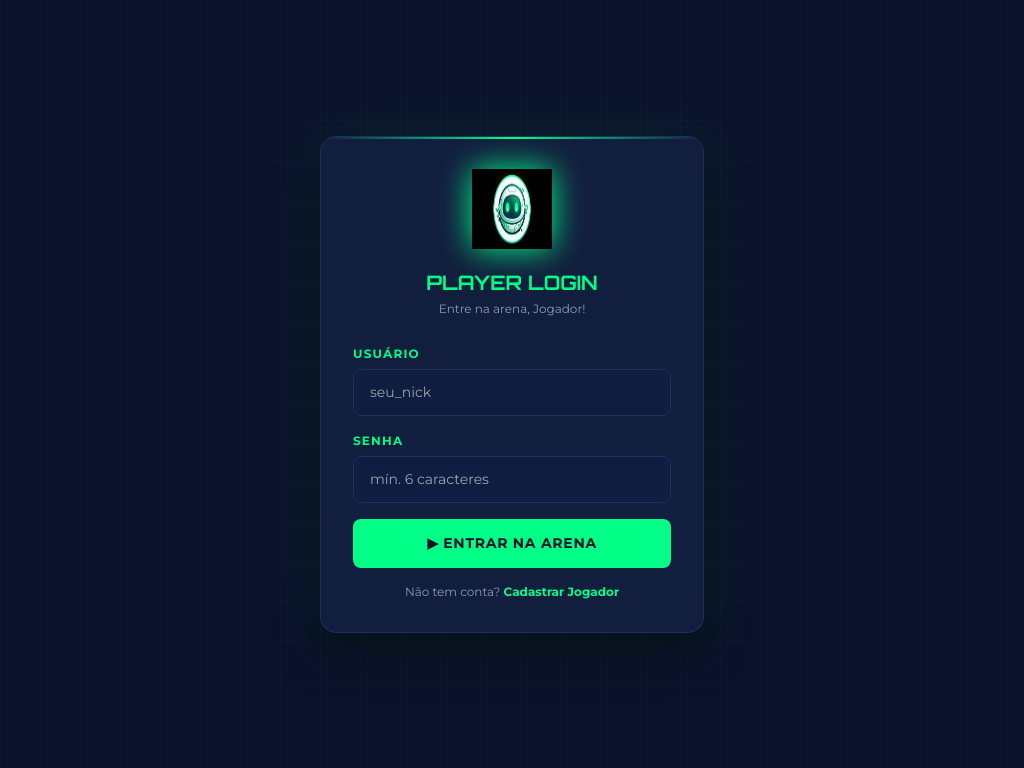
it: LoginForm › shows validation error for short password
Step 1. Type "jogador" into the field labelled "USUÁRIO" → [512, 392], box [353,368,671,416]
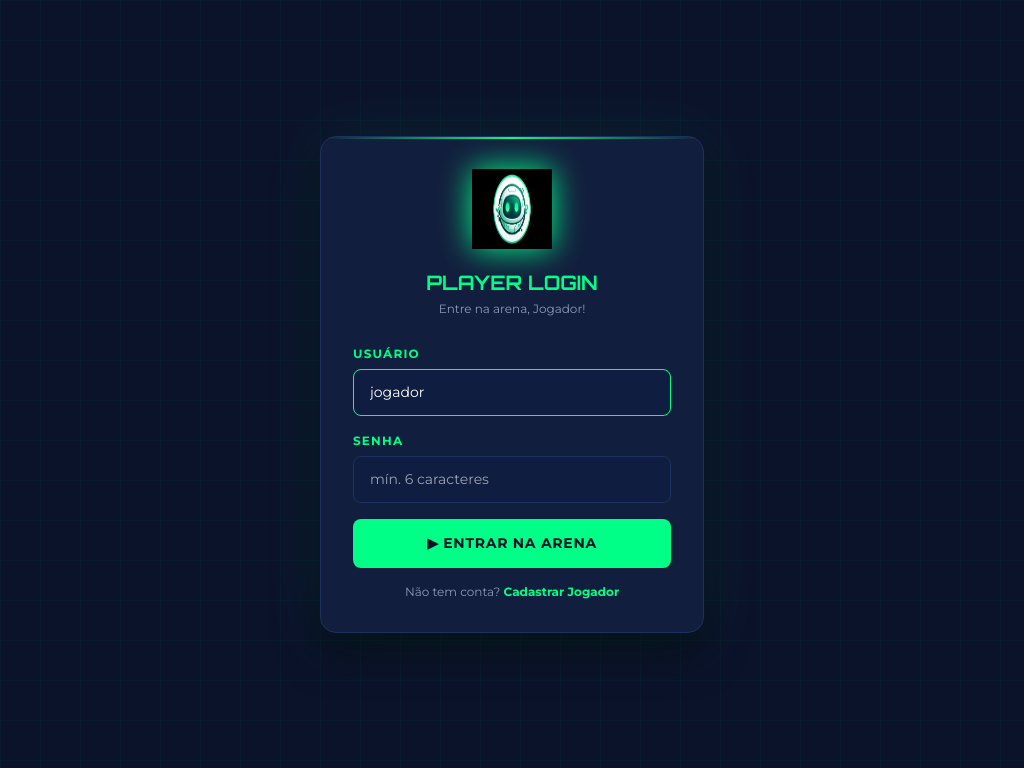
Step 2. Type "123" into the password field labelled "SENHA" → [512, 479], box [353,456,671,502]
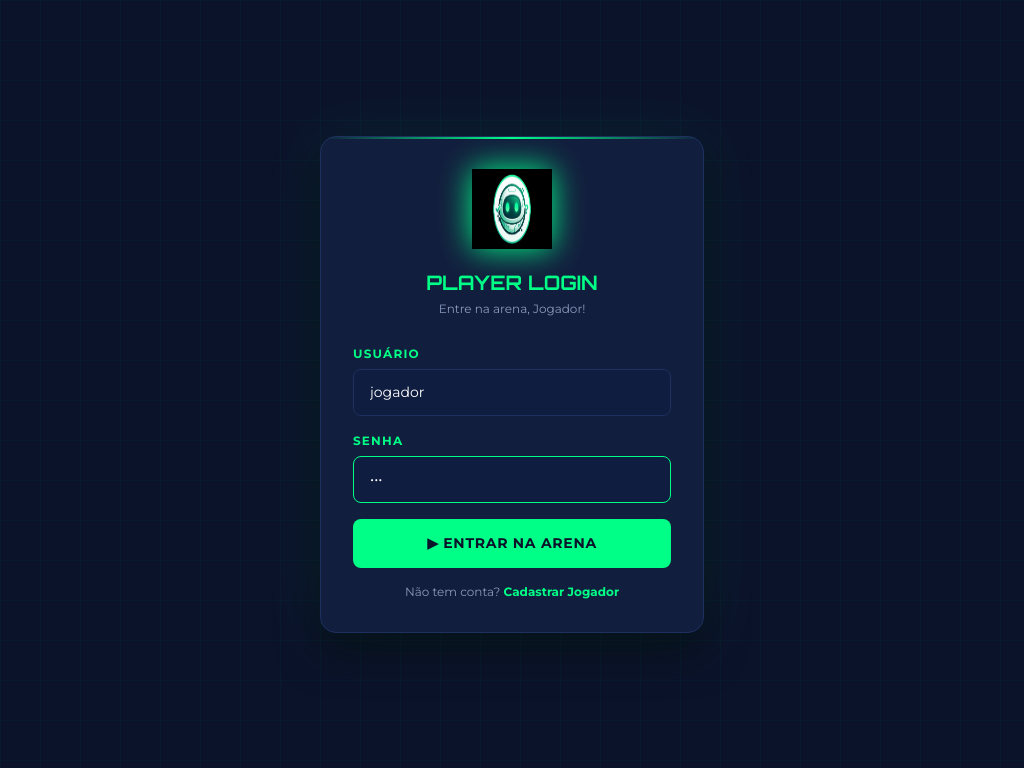
Step 3. Click the button "▶ ENTRAR NA ARENA" → [512, 543], box [353,518,671,568]
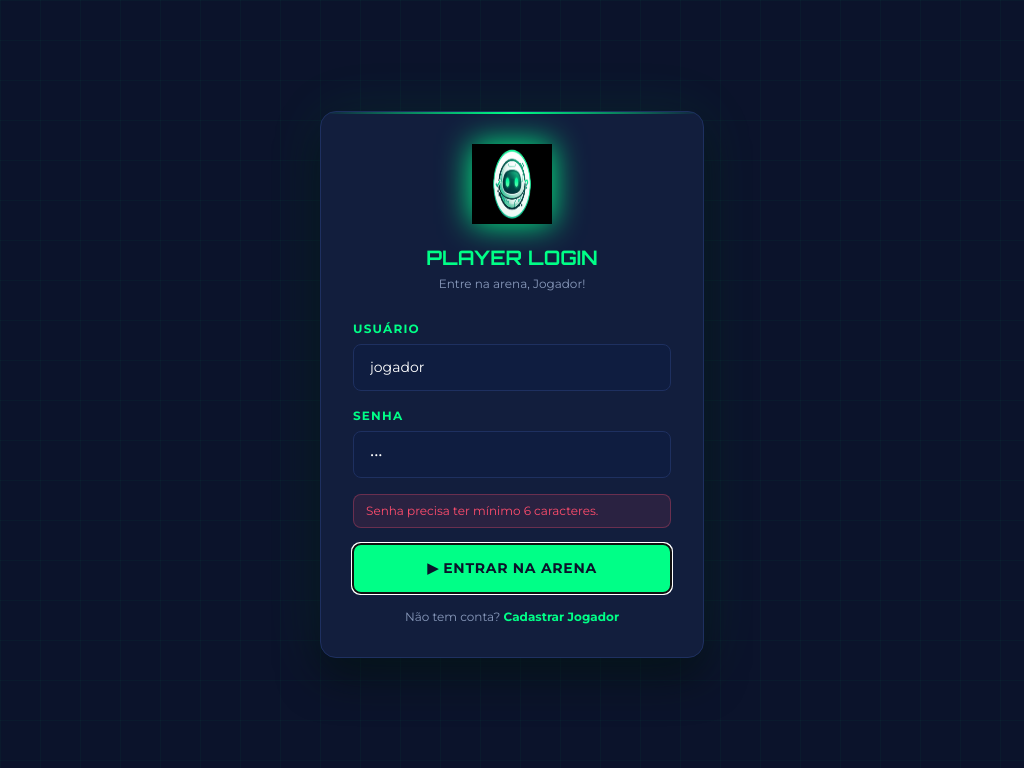
Result: the text "Senha precisa ter mínimo 6 caracteres." is shown at [353,494,671,528]
